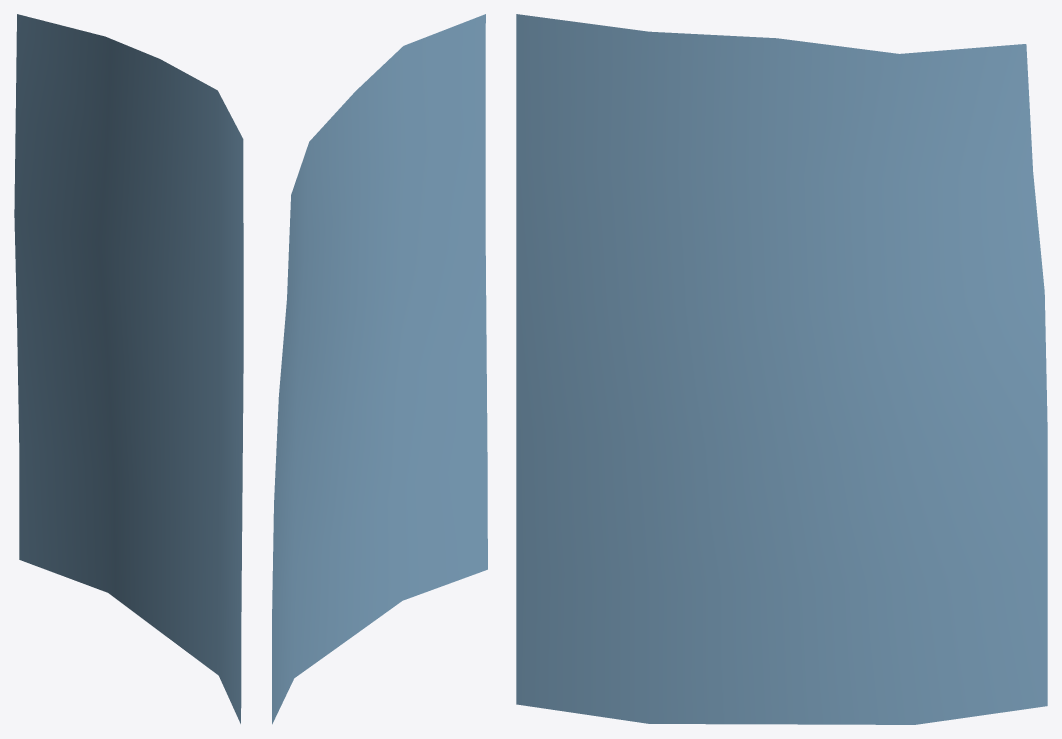
The model's file is zettel_001.fbx.
3 views of the same model, side by side, from view 1: azimuth 30°, elevation 25°; view 2: azimuth 150°, elevation 25°; view 3: azimuth 270°, elevation 25° (orthographic). The views are drawn at different scales.
Parts seen in each view (by area): view 1: zettel_001; view 2: zettel_001; view 3: zettel_001.
Boxes of the visible parts, left/top/right/bottom form: zettel_001: left=14, top=14, right=243, bottom=723; zettel_001: left=272, top=14, right=487, bottom=724; zettel_001: left=516, top=14, right=1047, bottom=724.
Bounding box in the file's own units: 1.55 × 19.74 × 13.74.
